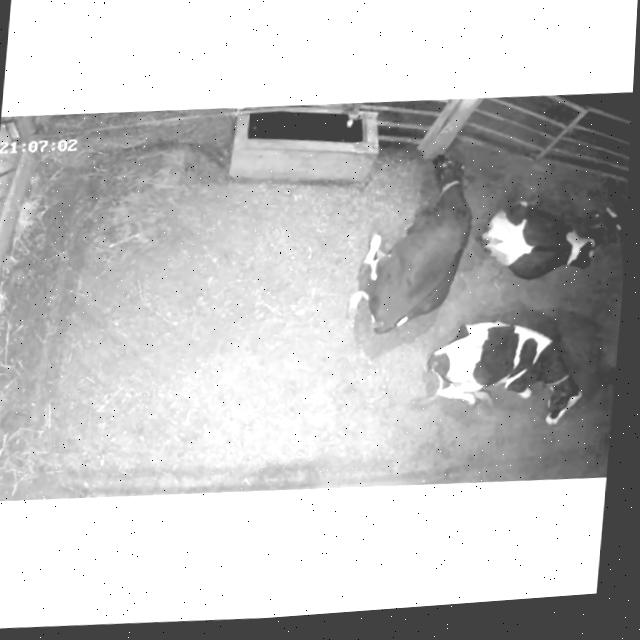lay: (341, 146, 488, 345), (405, 302, 602, 441), (475, 172, 627, 303)
